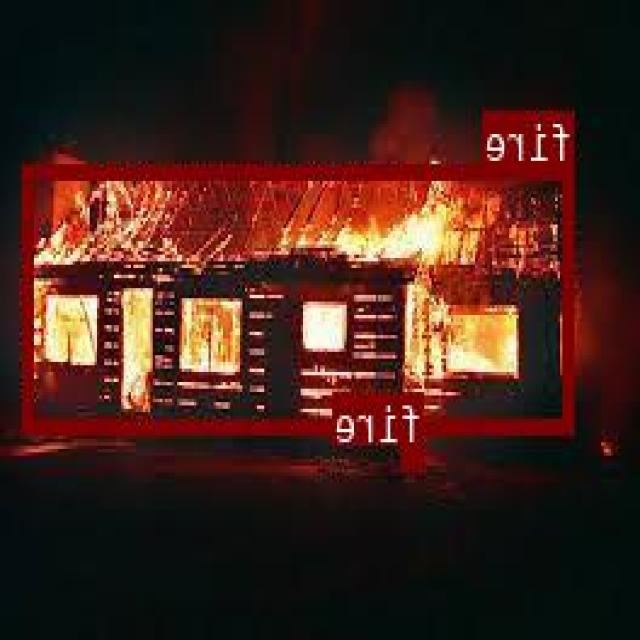fire: (24, 162, 577, 432), (404, 443, 425, 467)
